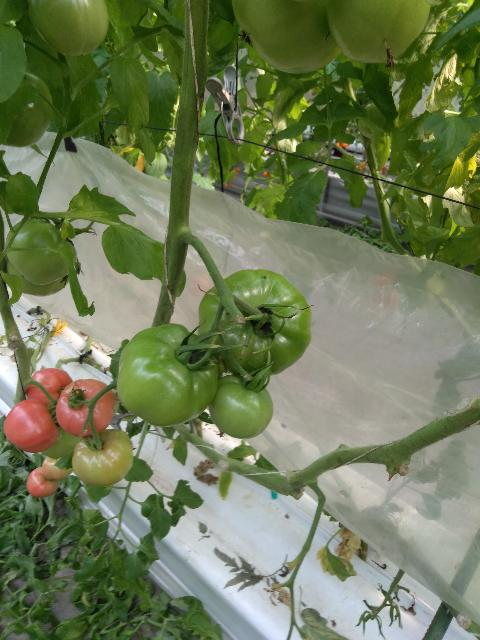b_fully_ripened: (55, 378, 116, 436), (4, 399, 59, 453), (28, 367, 72, 412)
b_green: (198, 268, 312, 378), (116, 323, 219, 427), (232, 1, 342, 75), (326, 0, 432, 63), (4, 219, 76, 285), (210, 375, 274, 438)
b_half_ripened: (72, 430, 133, 488), (26, 467, 59, 498), (43, 458, 73, 479)
